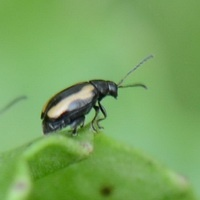insect: (41, 55, 152, 134)
